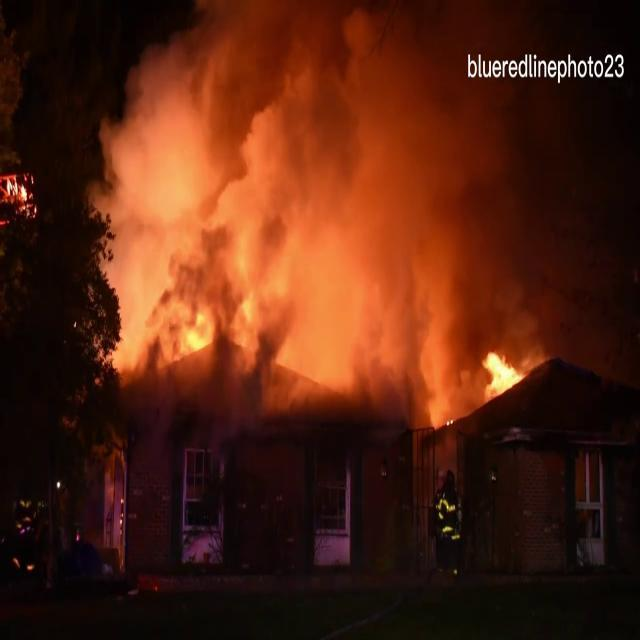Fire: (478, 341, 526, 409)
Smoke: (101, 0, 615, 411)
